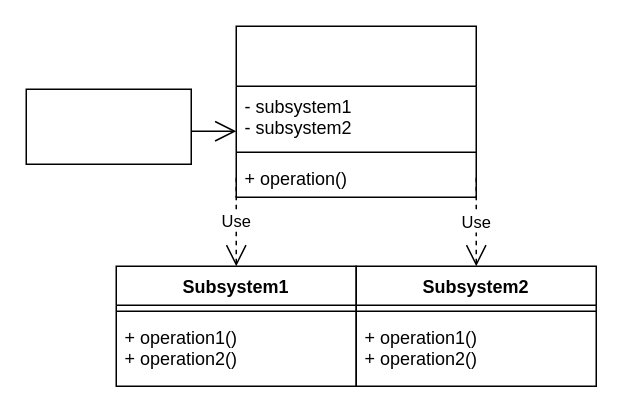
This 623x417 diagram has some shape labels left out. The box of each missing label's shape, as (x1, y1, x2, y2) in pixels:
«interface» Client: (25, 88, 191, 164)
«interface» Facade: (235, 25, 476, 197)
